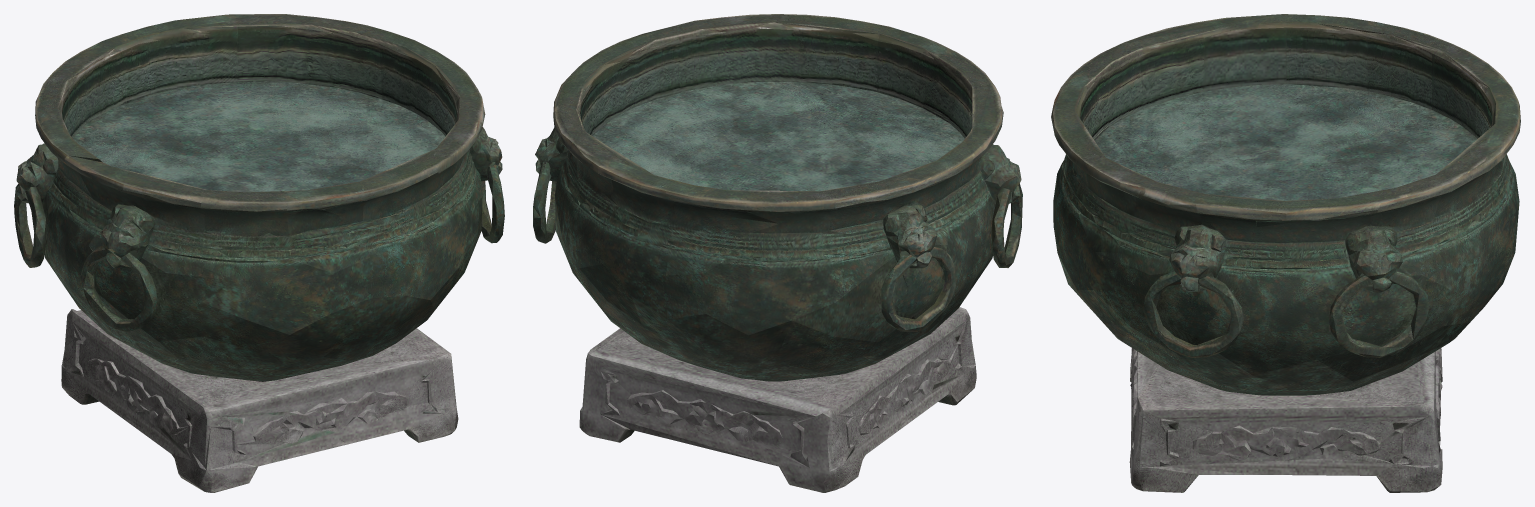
The model's file is deumu.glb.
3 renders of one model, left to right at view 1: azimuth 30°, elevation 25°; view 2: azimuth 150°, elevation 25°; view 3: azimuth 270°, elevation 25°, orthographic. The views are drawn at different scales.
Size of the model in its own units: 1.9 by 1.37 by 1.84.
Materials: 1 (1 with a texture image).
